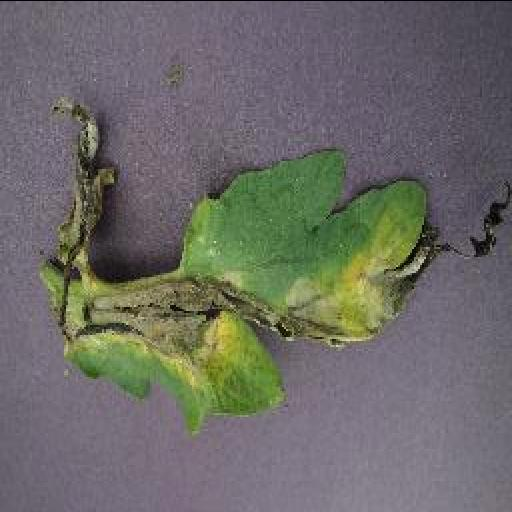disease_tomato: (42, 98, 512, 438)
